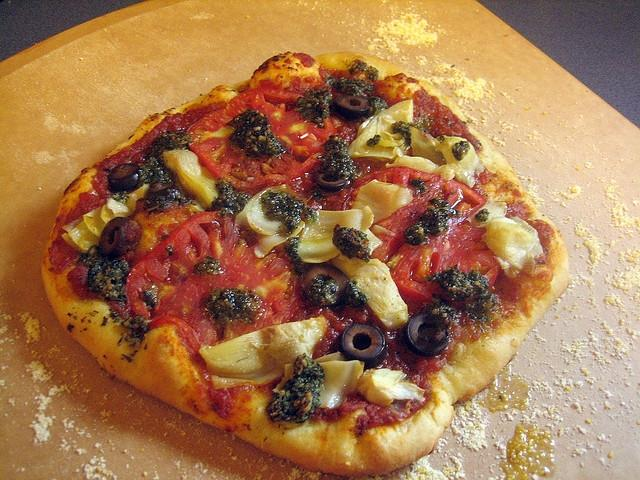broccoli: (266, 353, 325, 423), (426, 262, 497, 314), (200, 287, 260, 341), (227, 108, 286, 158), (403, 198, 461, 246), (78, 253, 132, 304), (261, 190, 318, 234), (312, 135, 359, 178), (205, 177, 252, 218), (143, 185, 197, 215), (294, 87, 332, 128), (332, 224, 371, 262), (150, 130, 193, 160), (325, 73, 375, 96), (307, 274, 339, 308), (137, 156, 175, 184), (120, 314, 152, 343), (341, 280, 369, 310), (193, 255, 224, 276), (452, 140, 470, 160)
tomato: (125, 211, 302, 354), (186, 84, 338, 192), (341, 166, 487, 264), (391, 216, 501, 302)
